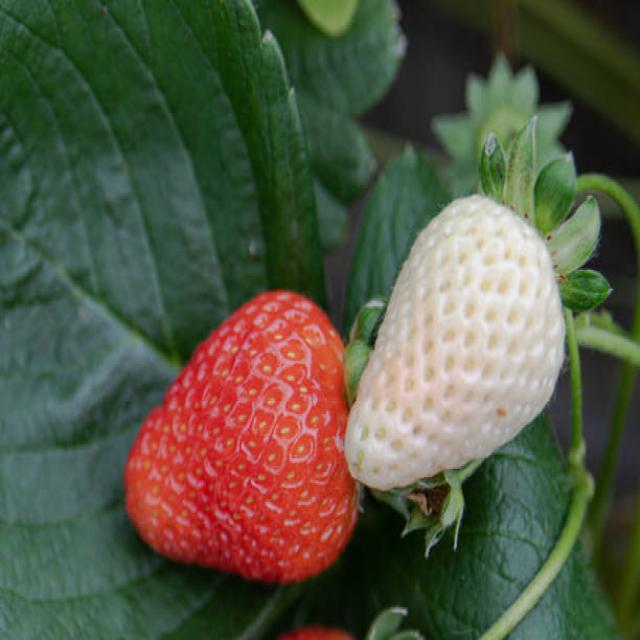Healthy Fruit: (123, 287, 357, 581), (348, 198, 567, 489)
